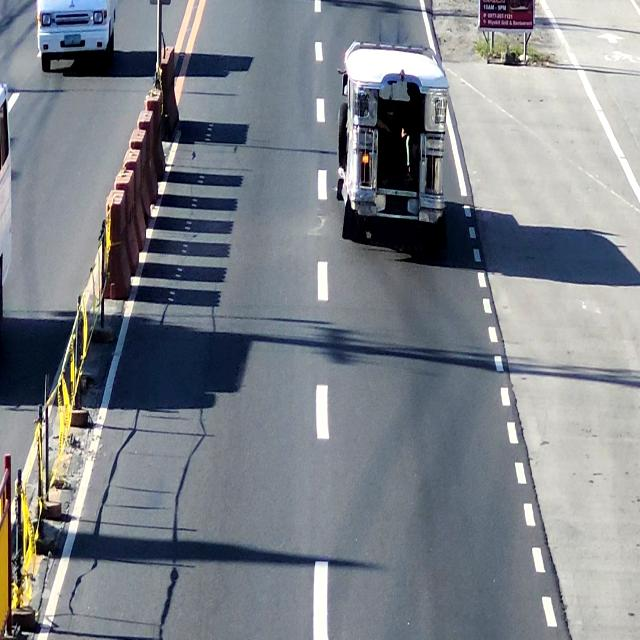Jeep: (338, 34, 450, 250)
